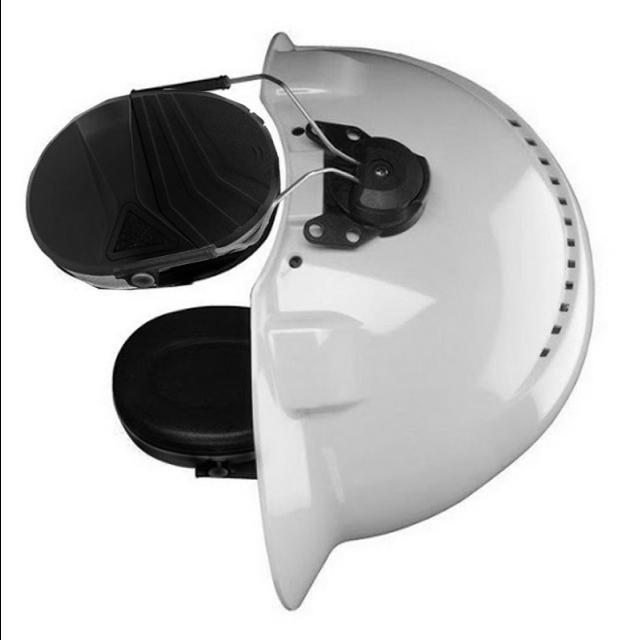safety_helmet: (24, 32, 594, 611)
